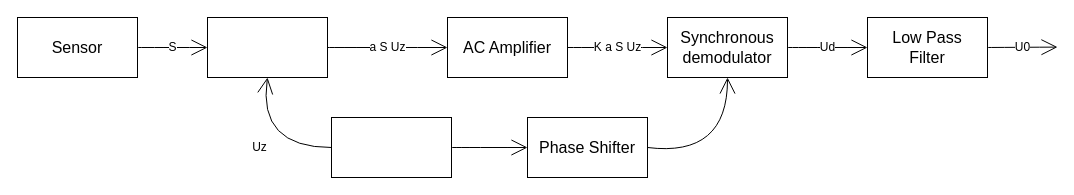
Image size: 1074x195. Some labels were removed from this diagram. Here are the shapes that lost their labels. From the top down, the box of each, then its label:
(206, 16, 328, 78): Modulator
(330, 116, 452, 178): Carrier Signal Generator
